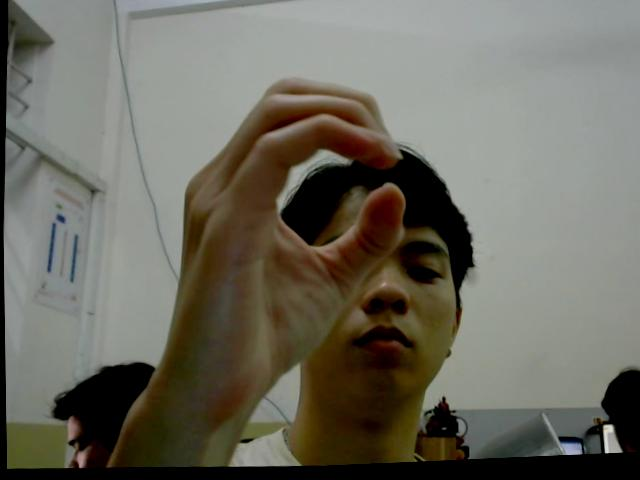C: (163, 67, 412, 423)
